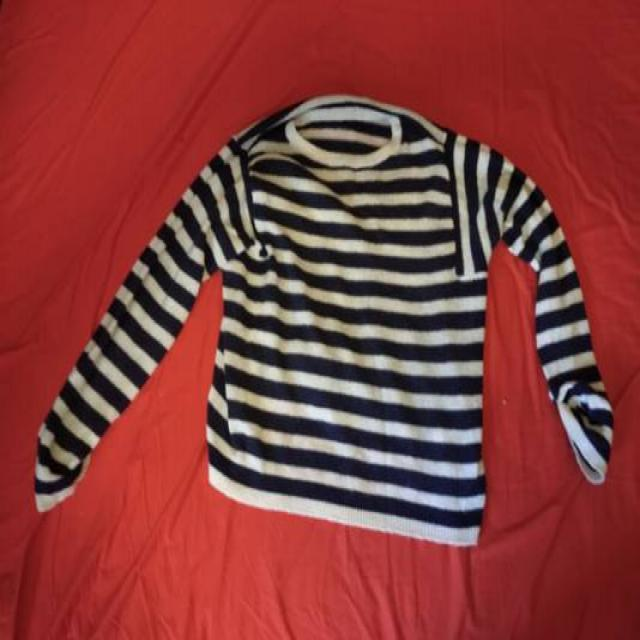Clothes -Biodegradable-: (31, 92, 612, 547)
